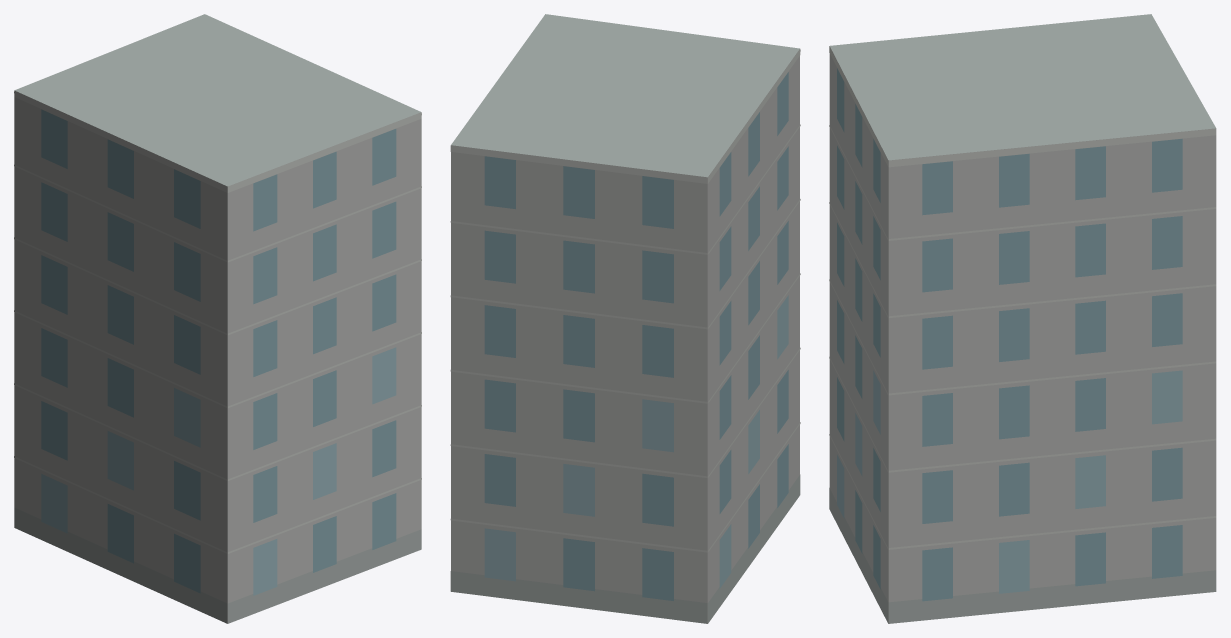
Rendered from survey-upis-32809431.glb.
The picture shows the model from 3 angles, left to right: view 1: azimuth 30°, elevation 25°; view 2: azimuth 150°, elevation 25°; view 3: azimuth 270°, elevation 25°; orthographic projection. The views are drawn at different scales.
Parts seen in each view (by area): view 1: survey-upis-32809431.tmp; view 2: survey-upis-32809431.tmp; view 3: survey-upis-32809431.tmp.
Part boxes in pixels (x1,y1,x2,y2): survey-upis-32809431.tmp: (14, 14, 421, 623); survey-upis-32809431.tmp: (450, 14, 800, 623); survey-upis-32809431.tmp: (829, 14, 1216, 623).
Bounding box in the file's own units: 11.07 × 16.3 × 12.36.
